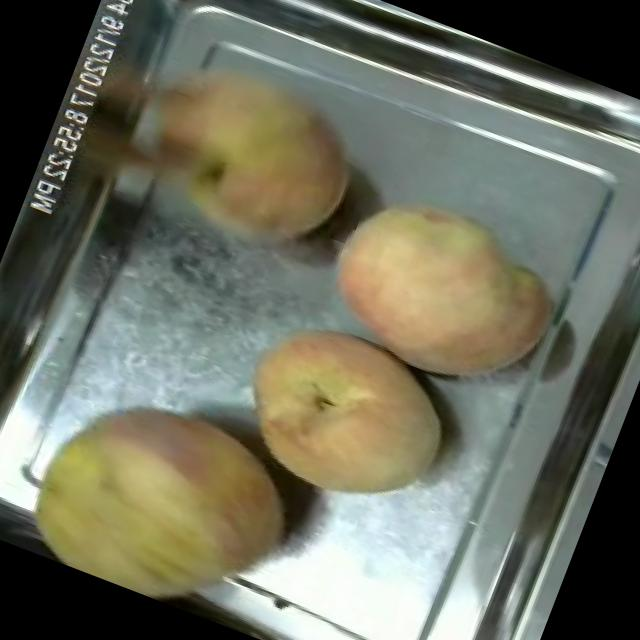Fruit: (0, 351, 333, 640), (103, 16, 389, 284), (299, 167, 578, 416), (211, 294, 476, 538)
